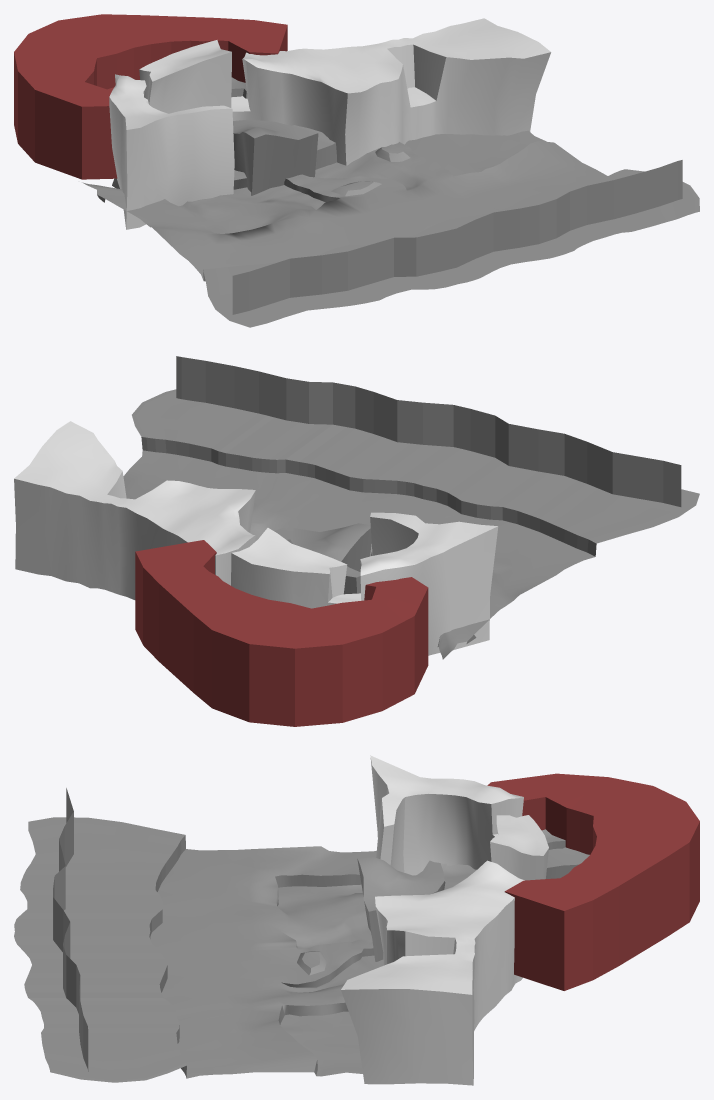
File: Zone2Final 2.FBX
The picture shows the model from 3 angles, top to bottom: view 1: azimuth 30°, elevation 25°; view 2: azimuth 150°, elevation 25°; view 3: azimuth 270°, elevation 25°; orthographic projection. The views are drawn at different scales.
Visible parts, largest first — view 1: Plane002, Plane001, New_Game_Object_15, Object001, New_Game_Object_035, New_Game_Object_032; view 2: Plane001, Plane002, New_Game_Object_15, Object001, New_Game_Object_035; view 3: Plane001, Plane002, New_Game_Object_15, New_Game_Object_035, Object001, New_Game_Object_034, New_Game_Object_030.
Part boxes in pixels (left/top/right/bottom): Plane002: left=109, top=18, right=551, bottom=229; Plane001: left=82, top=130, right=699, bottom=327; New_Game_Object_15: left=14, top=14, right=287, bottom=179; Object001: left=232, top=160, right=682, bottom=314; New_Game_Object_035: left=233, top=119, right=318, bottom=195; New_Game_Object_032: left=291, top=125, right=336, bottom=169; Plane001: left=123, top=389, right=699, bottom=659; Plane002: left=14, top=421, right=498, bottom=655; New_Game_Object_15: left=135, top=540, right=428, bottom=726; Object001: left=176, top=356, right=681, bottom=506; New_Game_Object_035: left=292, top=523, right=371, bottom=594; Plane001: left=14, top=817, right=383, bottom=1082; Plane002: left=341, top=755, right=548, bottom=1085; New_Game_Object_15: left=487, top=773, right=699, bottom=990; New_Game_Object_035: left=357, top=857, right=444, bottom=961; Object001: left=53, top=788, right=88, bottom=1071; New_Game_Object_034: left=541, top=829, right=589, bottom=878; New_Game_Object_030: left=441, top=863, right=476, bottom=889.
Bounding box in the file's own units: 15924 × 3316 × 17630.
